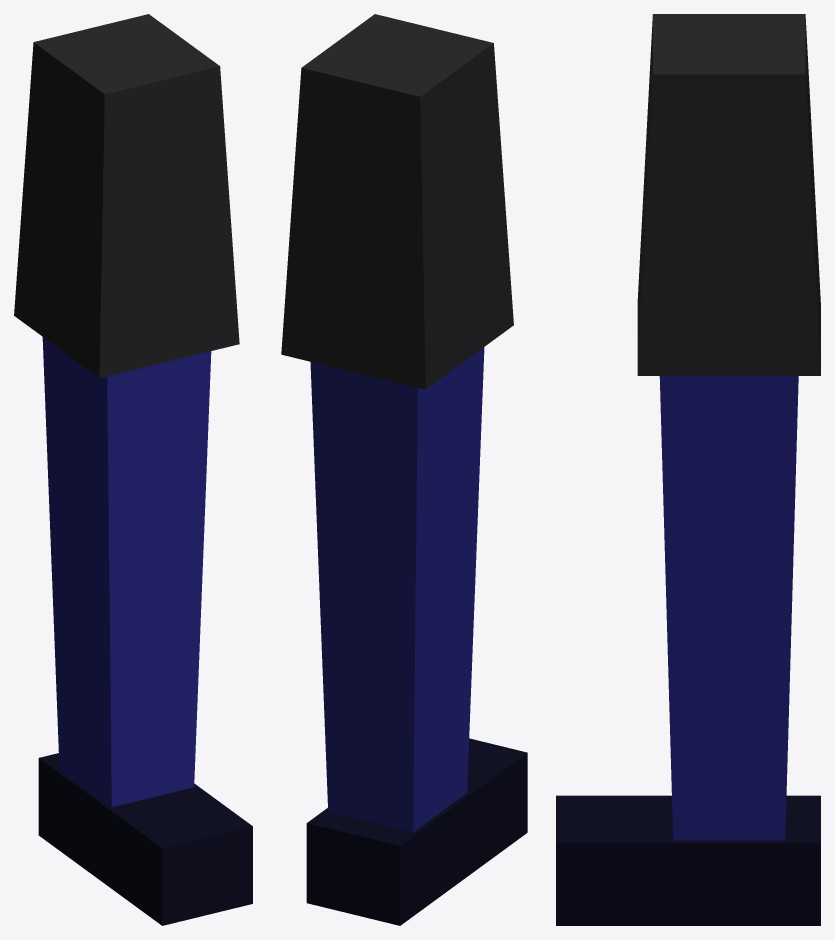
Rendered from leg_k23.glb.
3 renders of one model, left to right at view 1: azimuth 30°, elevation 25°; view 2: azimuth 150°, elevation 25°; view 3: azimuth 270°, elevation 25°, orthographic. The views are drawn at different scales.
Visible parts, largest first — view 1: leg_kit; view 2: leg_kit; view 3: leg_kit.
Part boxes in pixels (x1,y1,x2,y2): leg_kit: (14,14,252,925); leg_kit: (281,14,527,925); leg_kit: (556,14,820,925).
Bounding box in the file's own units: 0.17 × 0.93 × 0.26.
